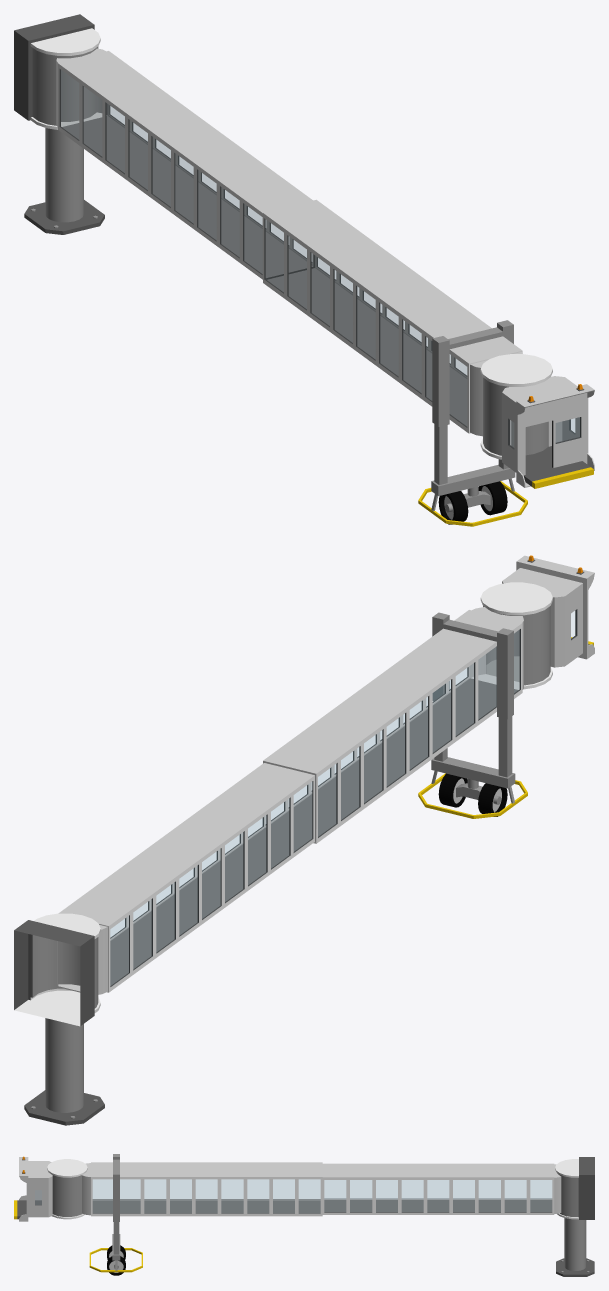
File: Passenger Boarding Bridge Interior.fbx
3 views of the same model, one above another, from view 1: azimuth 30°, elevation 25°; view 2: azimuth 150°, elevation 25°; view 3: azimuth 270°, elevation 25° (orthographic). The views are drawn at different scales.
Parts seen in each view (by area): view 1: PBB_Tunnel_2, PBB_Tunnel_1, PBB_Rotunda, PBB_Tunnel_1_Glass, PBB_Tunnel_2_Glass, PBB_Cabin, PBB_Elevation_System, PBB_Wheels; view 2: PBB_Tunnel_2, PBB_Tunnel_1, PBB_Rotunda, PBB_Tunnel_1_Glass, PBB_Tunnel_2_Glass, PBB_Cabin, PBB_Elevation_System, PBB_Wheels; view 3: PBB_Tunnel_2, PBB_Tunnel_1, PBB_Tunnel_2_Glass, PBB_Tunnel_1_Glass, PBB_Rotunda, PBB_Cabin, PBB_Elevation_System, PBB_Wheels.
Part boxes in pixels (left/top/right/bottom): PBB_Tunnel_2: left=263, top=199, right=552, bottom=459; PBB_Tunnel_1: left=56, top=48, right=314, bottom=279; PBB_Rotunda: left=14, top=14, right=104, bottom=234; PBB_Tunnel_1_Glass: left=61, top=70, right=306, bottom=272; PBB_Tunnel_2_Glass: left=266, top=220, right=466, bottom=425; PBB_Cabin: left=502, top=376, right=594, bottom=488; PBB_Elevation_System: left=418, top=424, right=527, bottom=526; PBB_Wheels: left=438, top=481, right=507, bottom=524; PBB_Tunnel_2: left=263, top=582, right=552, bottom=843; PBB_Tunnel_1: left=57, top=763, right=314, bottom=994; PBB_Rotunda: left=14, top=913, right=104, bottom=1125; PBB_Tunnel_1_Glass: left=110, top=782, right=311, bottom=984; PBB_Tunnel_2_Glass: left=271, top=630, right=519, bottom=836; PBB_Cabin: left=502, top=555, right=594, bottom=667; PBB_Elevation_System: left=418, top=716, right=527, bottom=818; PBB_Wheels: left=438, top=773, right=507, bottom=816; PBB_Tunnel_2: left=47, top=1154, right=322, bottom=1221; PBB_Tunnel_1: left=322, top=1163, right=561, bottom=1214; PBB_Tunnel_2_Glass: left=93, top=1179, right=320, bottom=1212; PBB_Tunnel_1_Glass: left=324, top=1180, right=551, bottom=1211; PBB_Rotunda: left=555, top=1157, right=594, bottom=1276; PBB_Cabin: left=14, top=1156, right=52, bottom=1221; PBB_Elevation_System: left=89, top=1222, right=142, bottom=1272; PBB_Wheels: left=107, top=1245, right=125, bottom=1275.
Bounding box in the file's own units: 368 × 801 × 4013.
